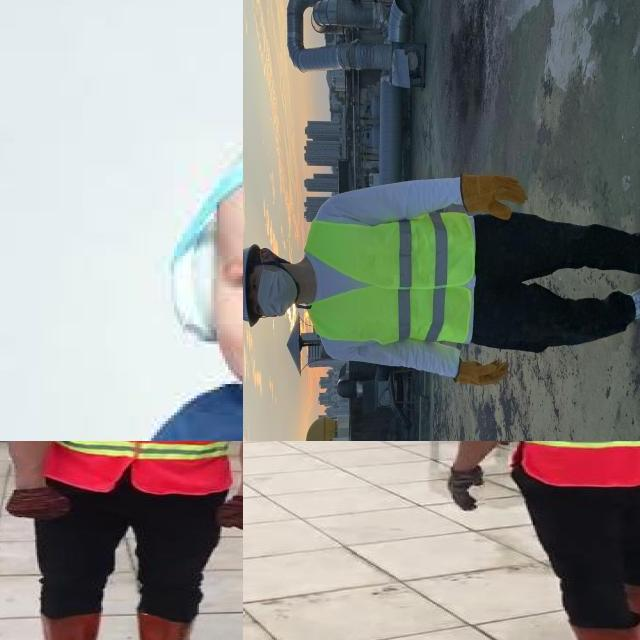Ear-protection: (161, 150, 243, 347)
boots: (127, 609, 202, 640), (23, 615, 94, 640), (621, 575, 640, 640), (620, 276, 640, 327)
hand_glove: (9, 487, 71, 519), (448, 465, 488, 511), (213, 498, 243, 529)
head_helmet: (243, 240, 265, 332)
person: (243, 151, 640, 397), (0, 441, 243, 640), (431, 441, 640, 640)
vest: (297, 211, 477, 345), (39, 441, 243, 494)
